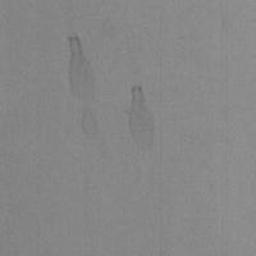Water spot: (68, 35, 97, 135), (129, 86, 154, 148)
